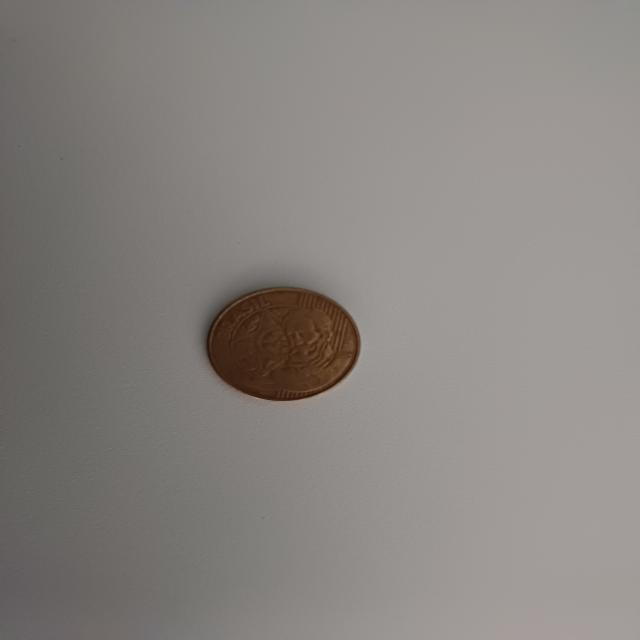25 cents: (205, 282, 364, 404)
